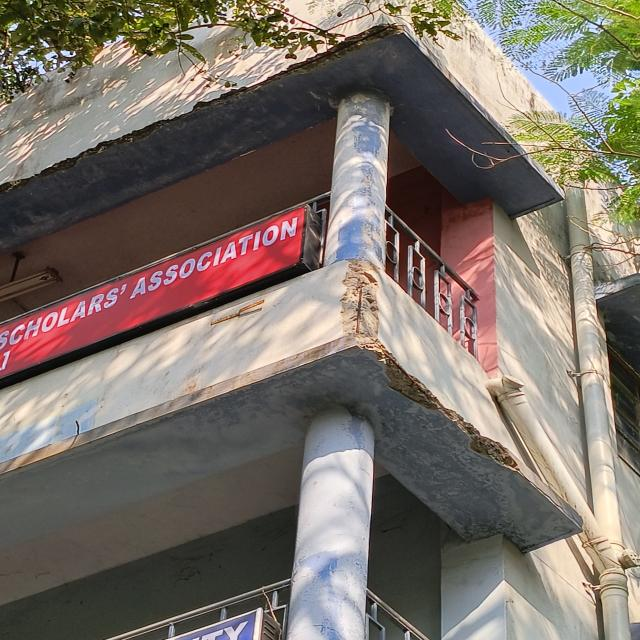peeling: (76, 348, 580, 640), (324, 91, 391, 270)
spalling: (0, 25, 402, 196), (340, 260, 520, 473)
stain_mould: (210, 299, 265, 326)
